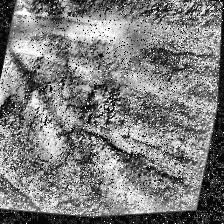pothole: (70, 72, 136, 142), (0, 68, 44, 136), (13, 0, 65, 32)
